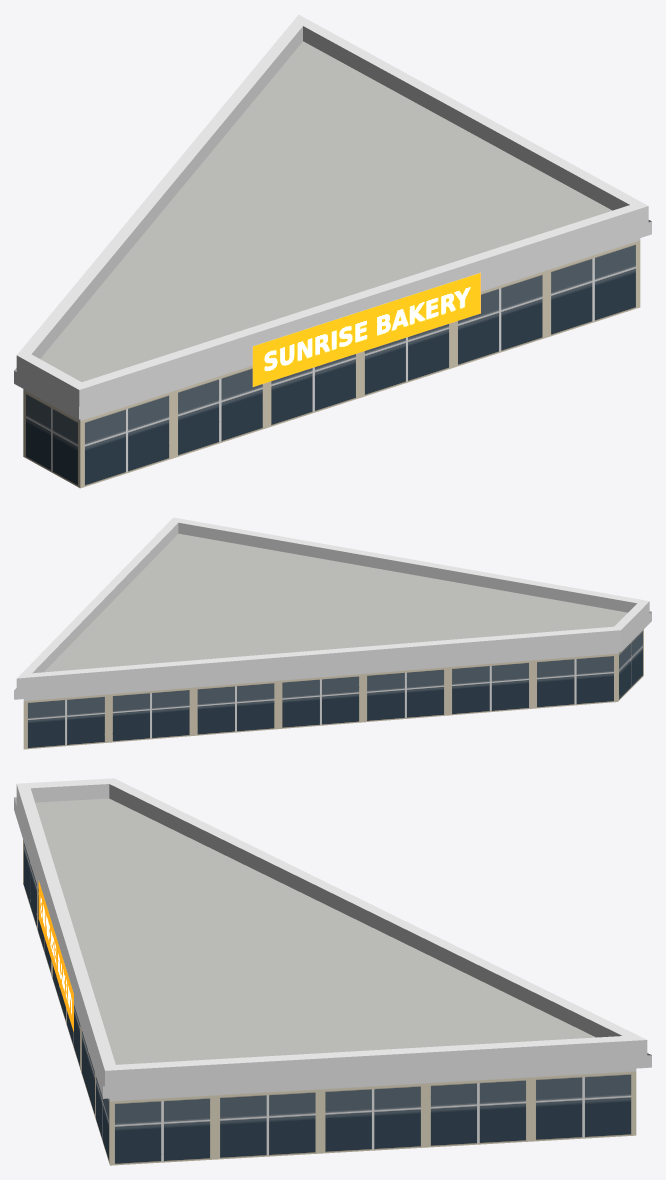
Rendered from sunrisebakery.glb.
3 renders of one model, top to bottom at view 1: azimuth 30°, elevation 25°; view 2: azimuth 150°, elevation 25°; view 3: azimuth 270°, elevation 25°, orthographic. The views are drawn at different scales.
Parts seen in each view (by area): view 1: sunrisebakery_lod0; view 2: sunrisebakery_lod0; view 3: sunrisebakery_lod0.
Part boxes in pixels (x1,y1,x2,y2): sunrisebakery_lod0: [14, 14, 651, 488]; sunrisebakery_lod0: [14, 517, 651, 749]; sunrisebakery_lod0: [14, 778, 651, 1165].
Size of what is drawn, in the model's own units: 30.46 by 4.7 by 27.88.
Materials: 4 (2 with a texture image).
